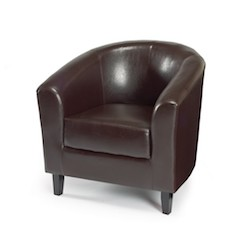chair: (25, 27, 211, 220)
